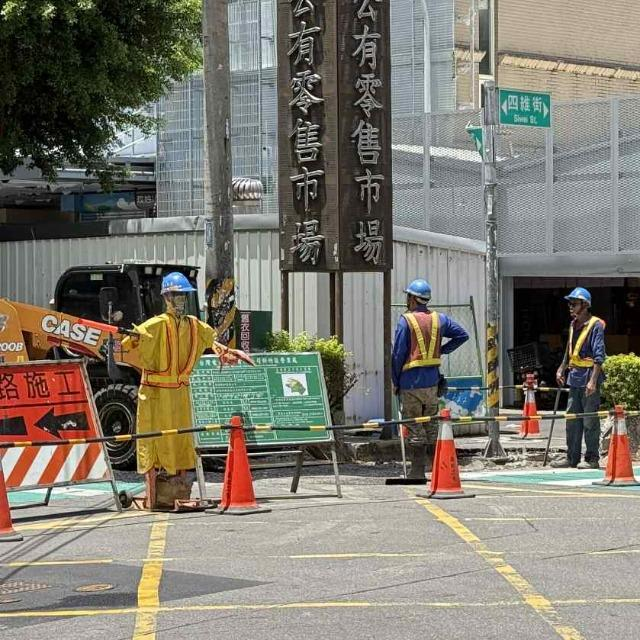Vest: (389, 310, 449, 380), (562, 315, 614, 382)
